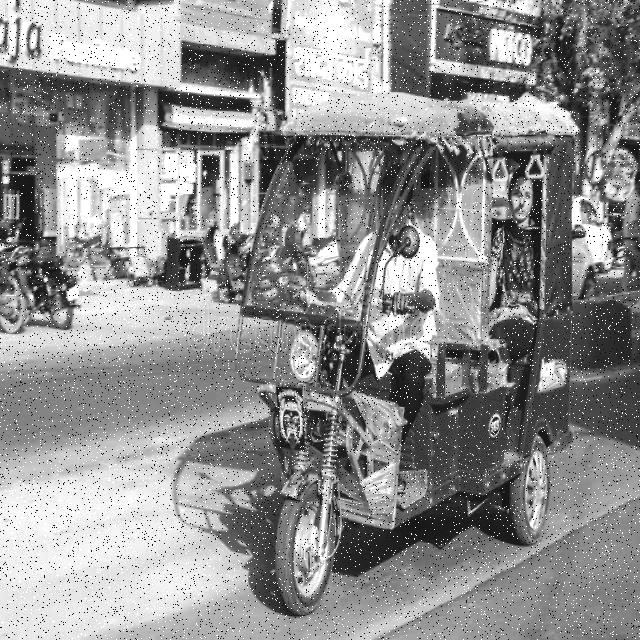Toto: (234, 99, 574, 598)
